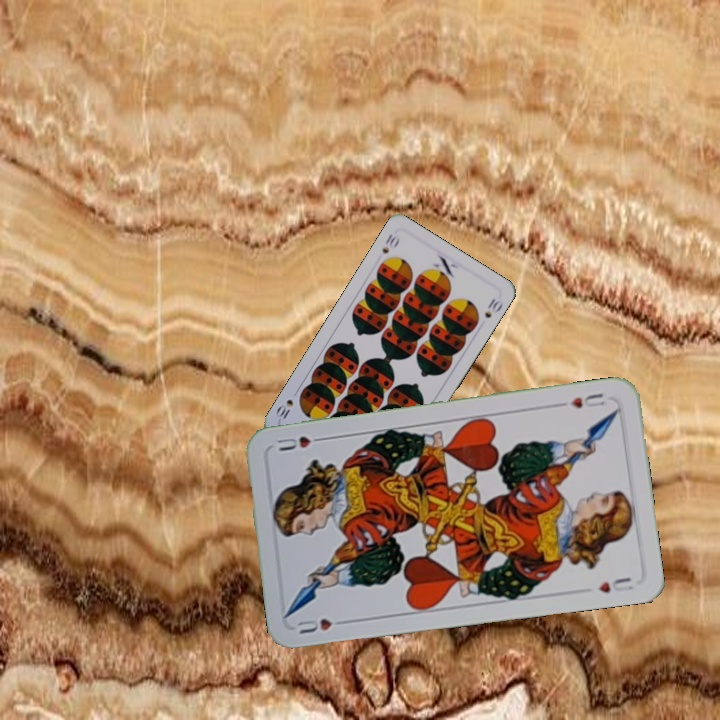HU: (293, 614, 351, 637), (566, 389, 611, 411)
S10: (378, 229, 402, 256)
